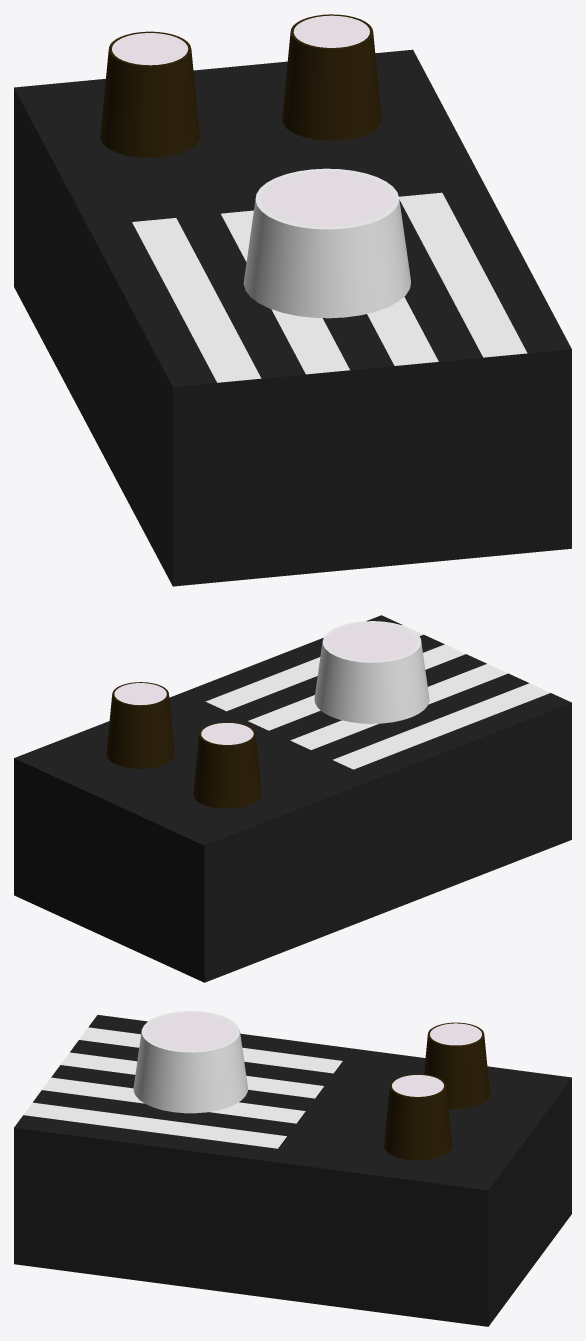
The model's file is pedal2.glb.
3 renders of one model, top to bottom at view 1: azimuth 30°, elevation 25°; view 2: azimuth 150°, elevation 25°; view 3: azimuth 270°, elevation 25°, orthographic. The views are drawn at different scales.
Parts seen in each view (by area): view 1: pedal2; view 2: pedal2; view 3: pedal2.
Boxes of the visible parts, x1,y1,x2,y2 form: pedal2: (14, 14, 571, 586); pedal2: (14, 615, 571, 982); pedal2: (14, 1011, 571, 1326).
Size of the model in its own units: 0.409 by 0.2136 by 0.5493.
